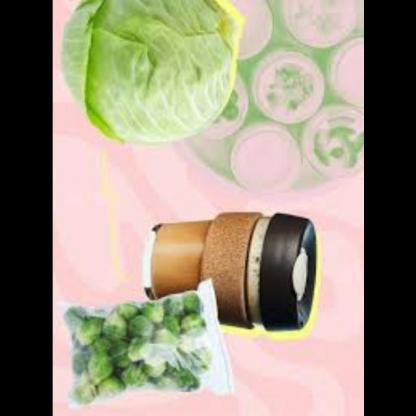brus capusta: (60, 302, 205, 400)
cabbage: (53, 2, 248, 138)
